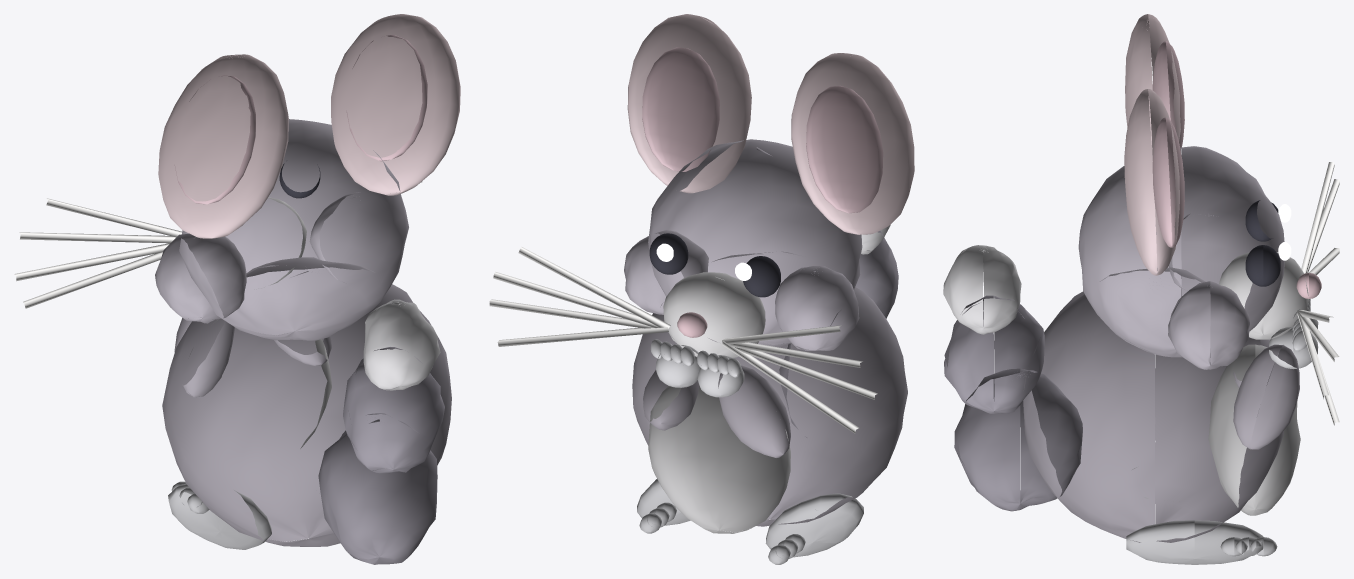
File: pet_chinchilla_violet.glb
3 views of the same model, side by side, from view 1: azimuth 30°, elevation 25°; view 2: azimuth 150°, elevation 25°; view 3: azimuth 270°, elevation 25° (orthographic). The views are drawn at different scales.
Parts seen in each view (by area): view 1: chinchilla; view 2: chinchilla; view 3: chinchilla.
Part boxes in pixels (bbox=[...]): chinchilla: bbox=[14, 14, 460, 564]; chinchilla: bbox=[489, 14, 914, 564]; chinchilla: bbox=[943, 14, 1339, 564].
Bounding box in the file's own units: 0.8416 × 1 × 0.7516.
